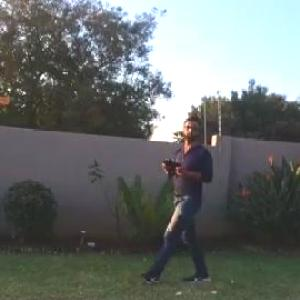follow: (134, 108, 216, 289)
